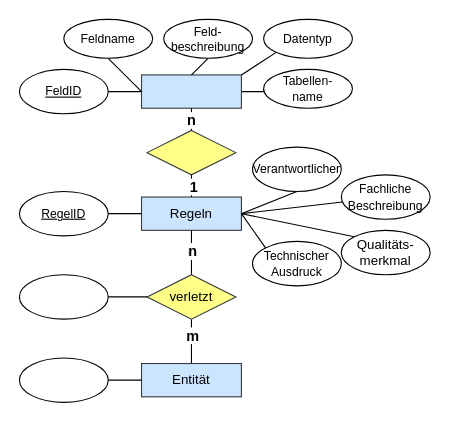
This 450x422 diagram has some shape labels left out. Here are the shapes that lost their labels. From the top down, the box of each, then its label:
(140, 74, 241, 108): Feld Metadaten
(146, 129, 236, 175): zugeordnet
(18, 274, 108, 319): Datum
(18, 357, 108, 402): Schlüssel
